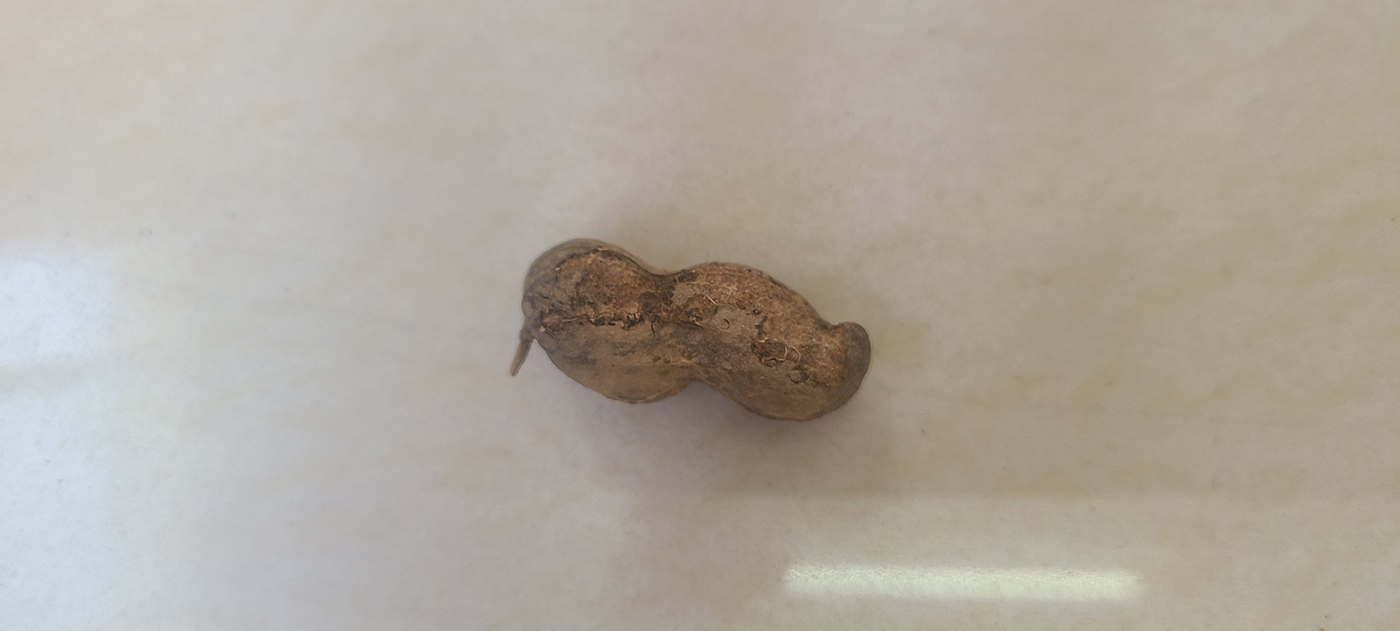l: (519, 238, 874, 422)
